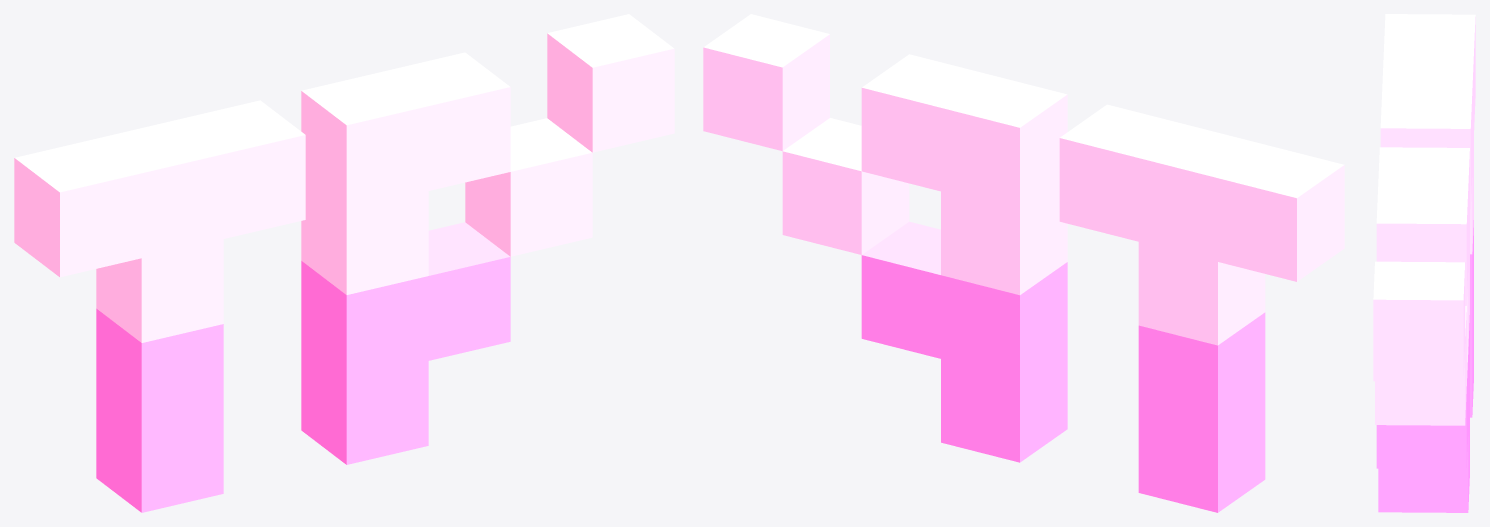
The model's file is TwinPixels.glb.
3 views of the same model, side by side, from view 1: azimuth 30°, elevation 25°; view 2: azimuth 150°, elevation 25°; view 3: azimuth 270°, elevation 25° (orthographic). The views are drawn at different scales.
Parts seen in each view (by area): view 1: Cube.001; view 2: Cube.001; view 3: Cube.001.
Boxes of the visible parts, x1,y1,x2,y2 form: Cube.001: (14, 14, 674, 512); Cube.001: (703, 14, 1344, 512); Cube.001: (1373, 14, 1475, 512).
Size of the model in its own units: 7.52 by 4 by 1.13.
